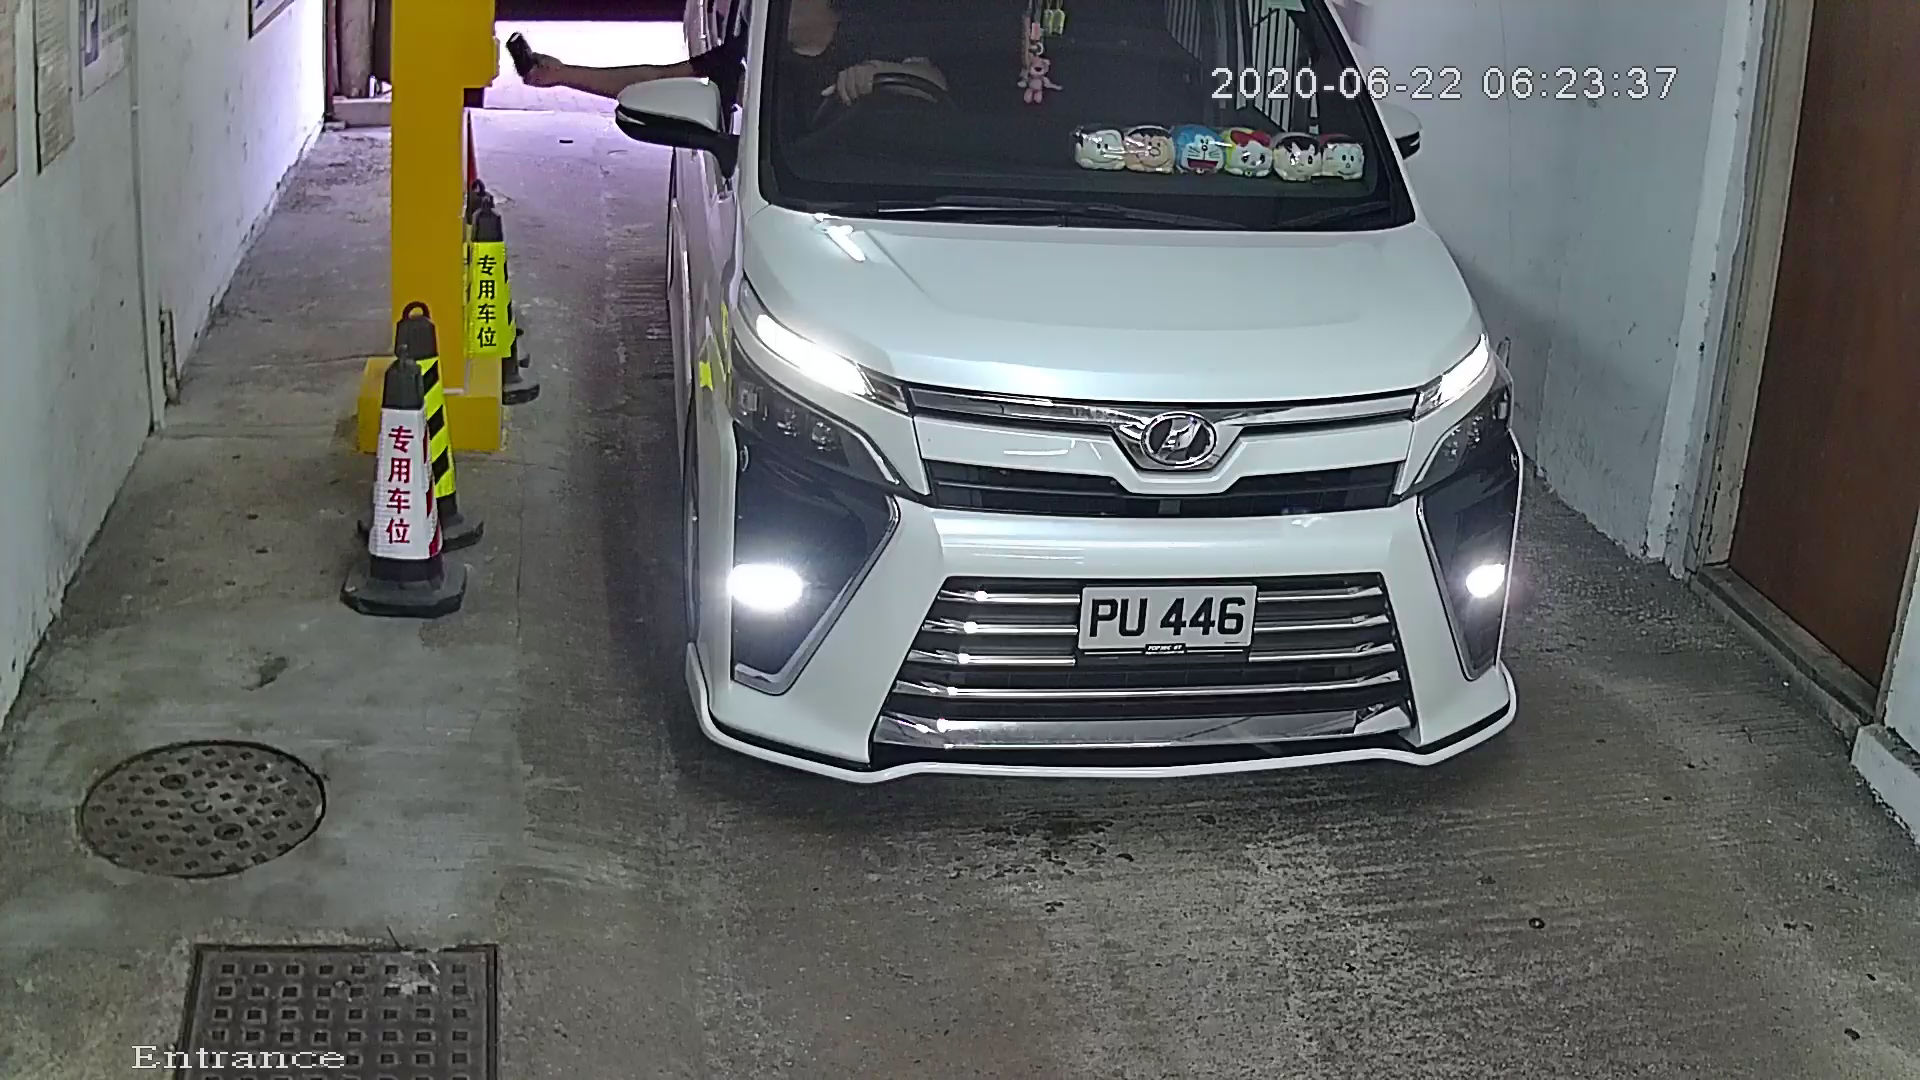privatecar: (611, 1, 1578, 884)
